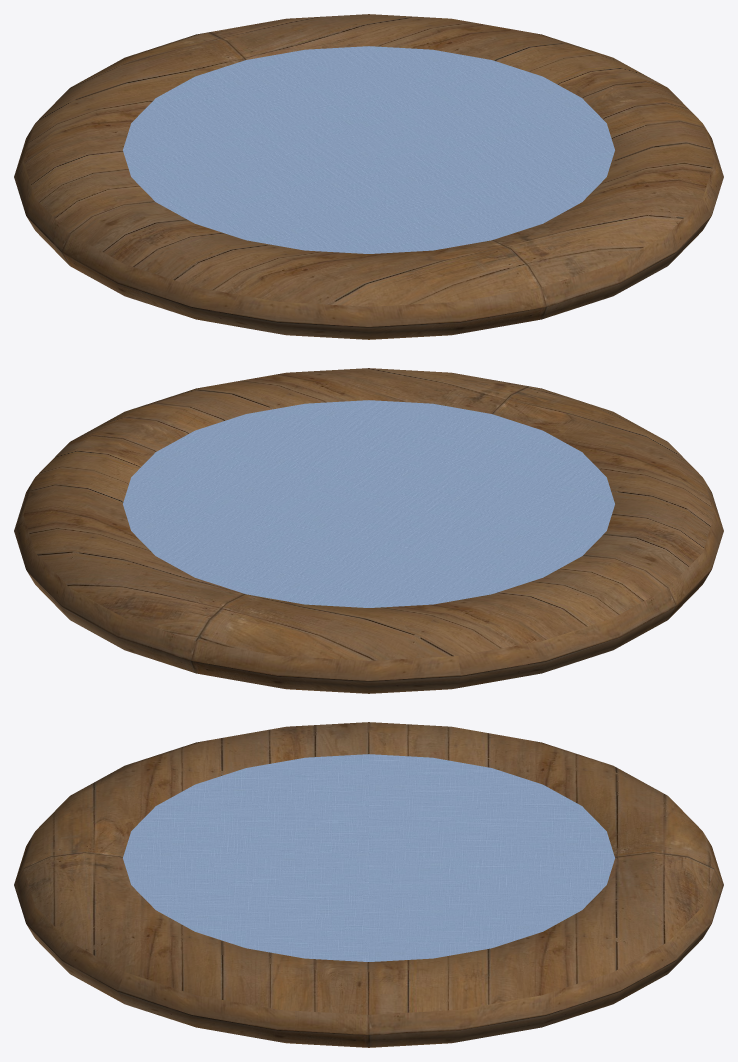
Rendered from tambor.glb.
The picture shows the model from 3 angles, top to bottom: view 1: azimuth 30°, elevation 25°; view 2: azimuth 150°, elevation 25°; view 3: azimuth 270°, elevation 25°; orthographic projection.
Visible parts, largest first — view 1: Aro, Pele; view 2: Aro, Pele; view 3: Aro, Pele.
Boxes of the visible parts, left/top/right/bottom form: Aro: left=14, top=14, right=723, bottom=339; Pele: left=123, top=46, right=614, bottom=253; Aro: left=14, top=368, right=723, bottom=693; Pele: left=123, top=400, right=614, bottom=607; Aro: left=14, top=722, right=723, bottom=1047; Pele: left=123, top=754, right=614, bottom=961.
Bounding box in the file's own units: 1.8 × 0.18 × 1.8.
2 materials, 2 textured.
